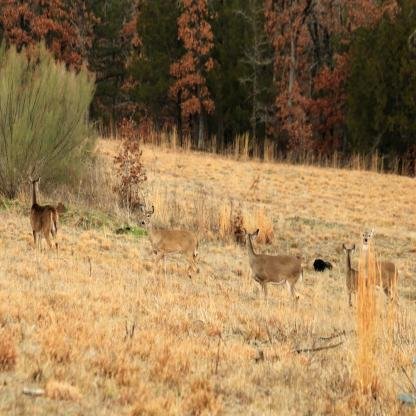Deer: (242, 226, 304, 317), (140, 203, 200, 292), (360, 224, 401, 322), (26, 173, 60, 269), (342, 242, 375, 314)
